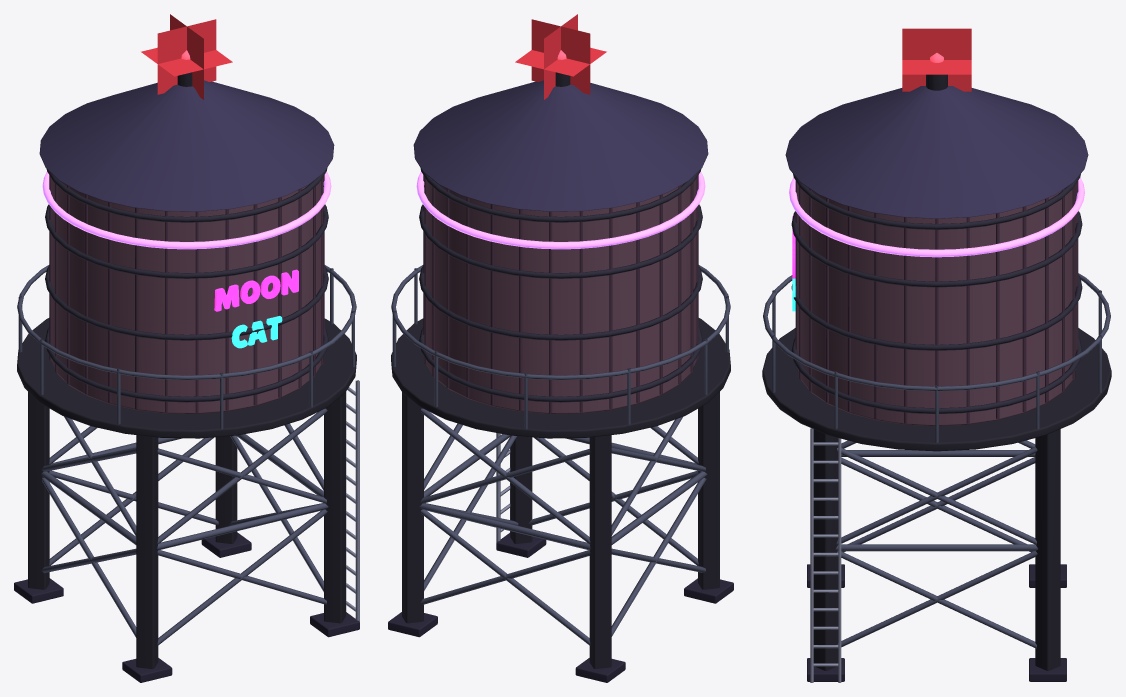
File: neon_water_tower.glb
The picture shows the model from 3 angles, left to right: view 1: azimuth 30°, elevation 25°; view 2: azimuth 150°, elevation 25°; view 3: azimuth 270°, elevation 25°; orthographic projection. The views are drawn at different scales.
Visible parts, largest first — view 1: WaterTower; view 2: WaterTower; view 3: WaterTower.
Part boxes in pixels (x1,y1,x2,y2): WaterTower: (14, 14, 359, 682); WaterTower: (388, 14, 733, 682); WaterTower: (762, 28, 1111, 682).
Bounding box in the file's own units: 5.5 × 10.4 × 5.5.
